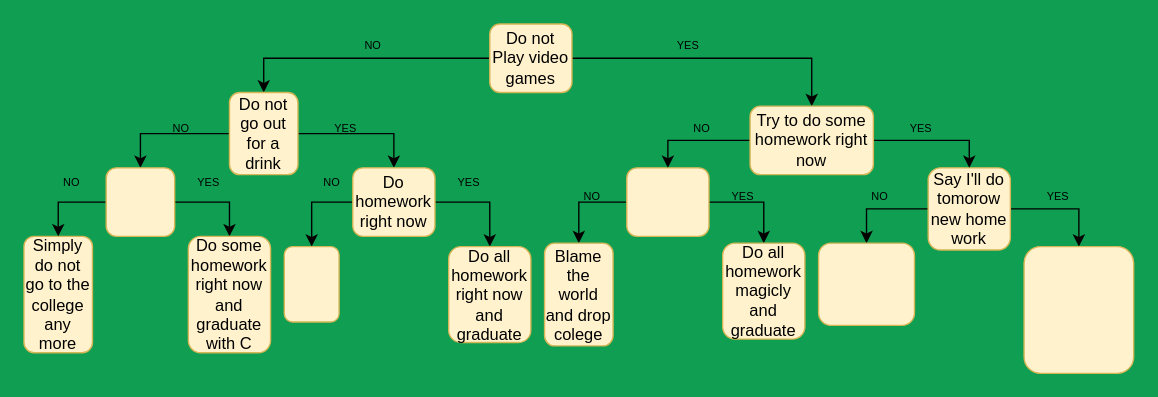
Some shapes in this 1158 by 397 pixel diagram are drawn without their labels. The centre of each missing label's shape, as x and y in pixels:
"Do not blame the world" belongs at point (140, 201).
"Do not Relax one more day" belongs at point (667, 201).
"Drop out of college" belongs at point (311, 283).
"Get a job and drop out of colege" belongs at point (865, 283).
"Pay someone to do your homework and graduate stres free" belongs at point (1078, 309).
